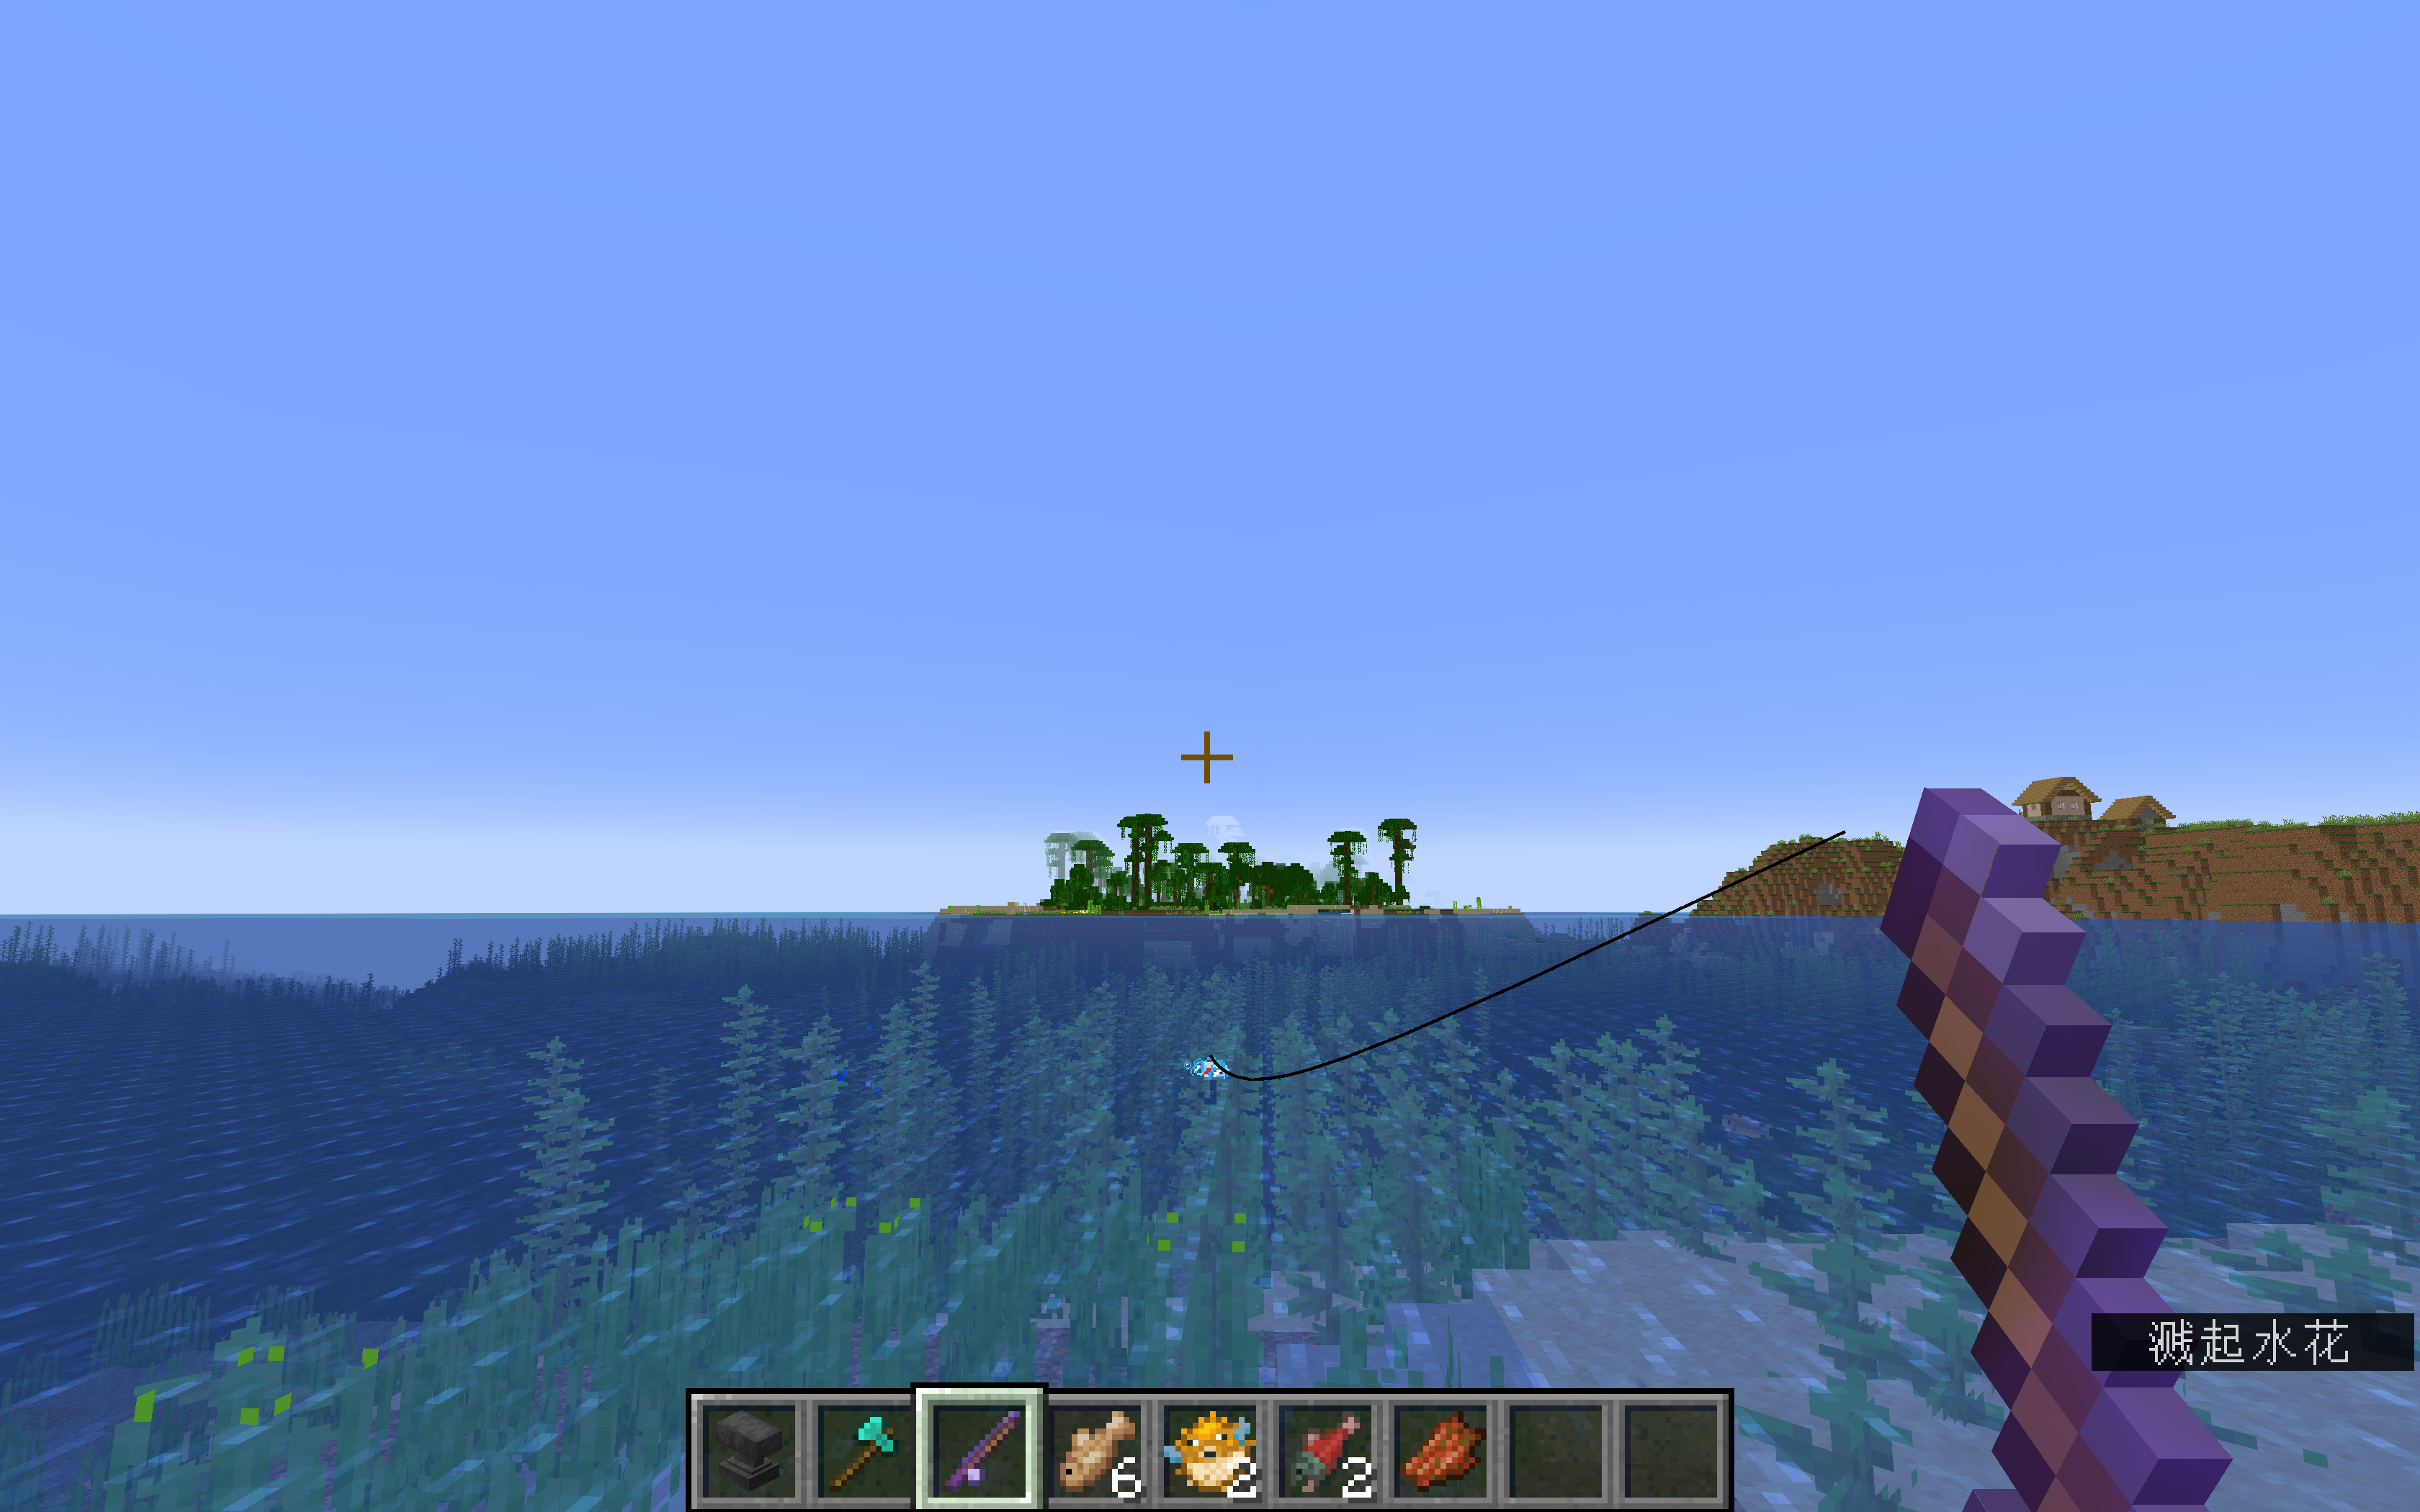inf: (2091, 1312, 2418, 1373)
